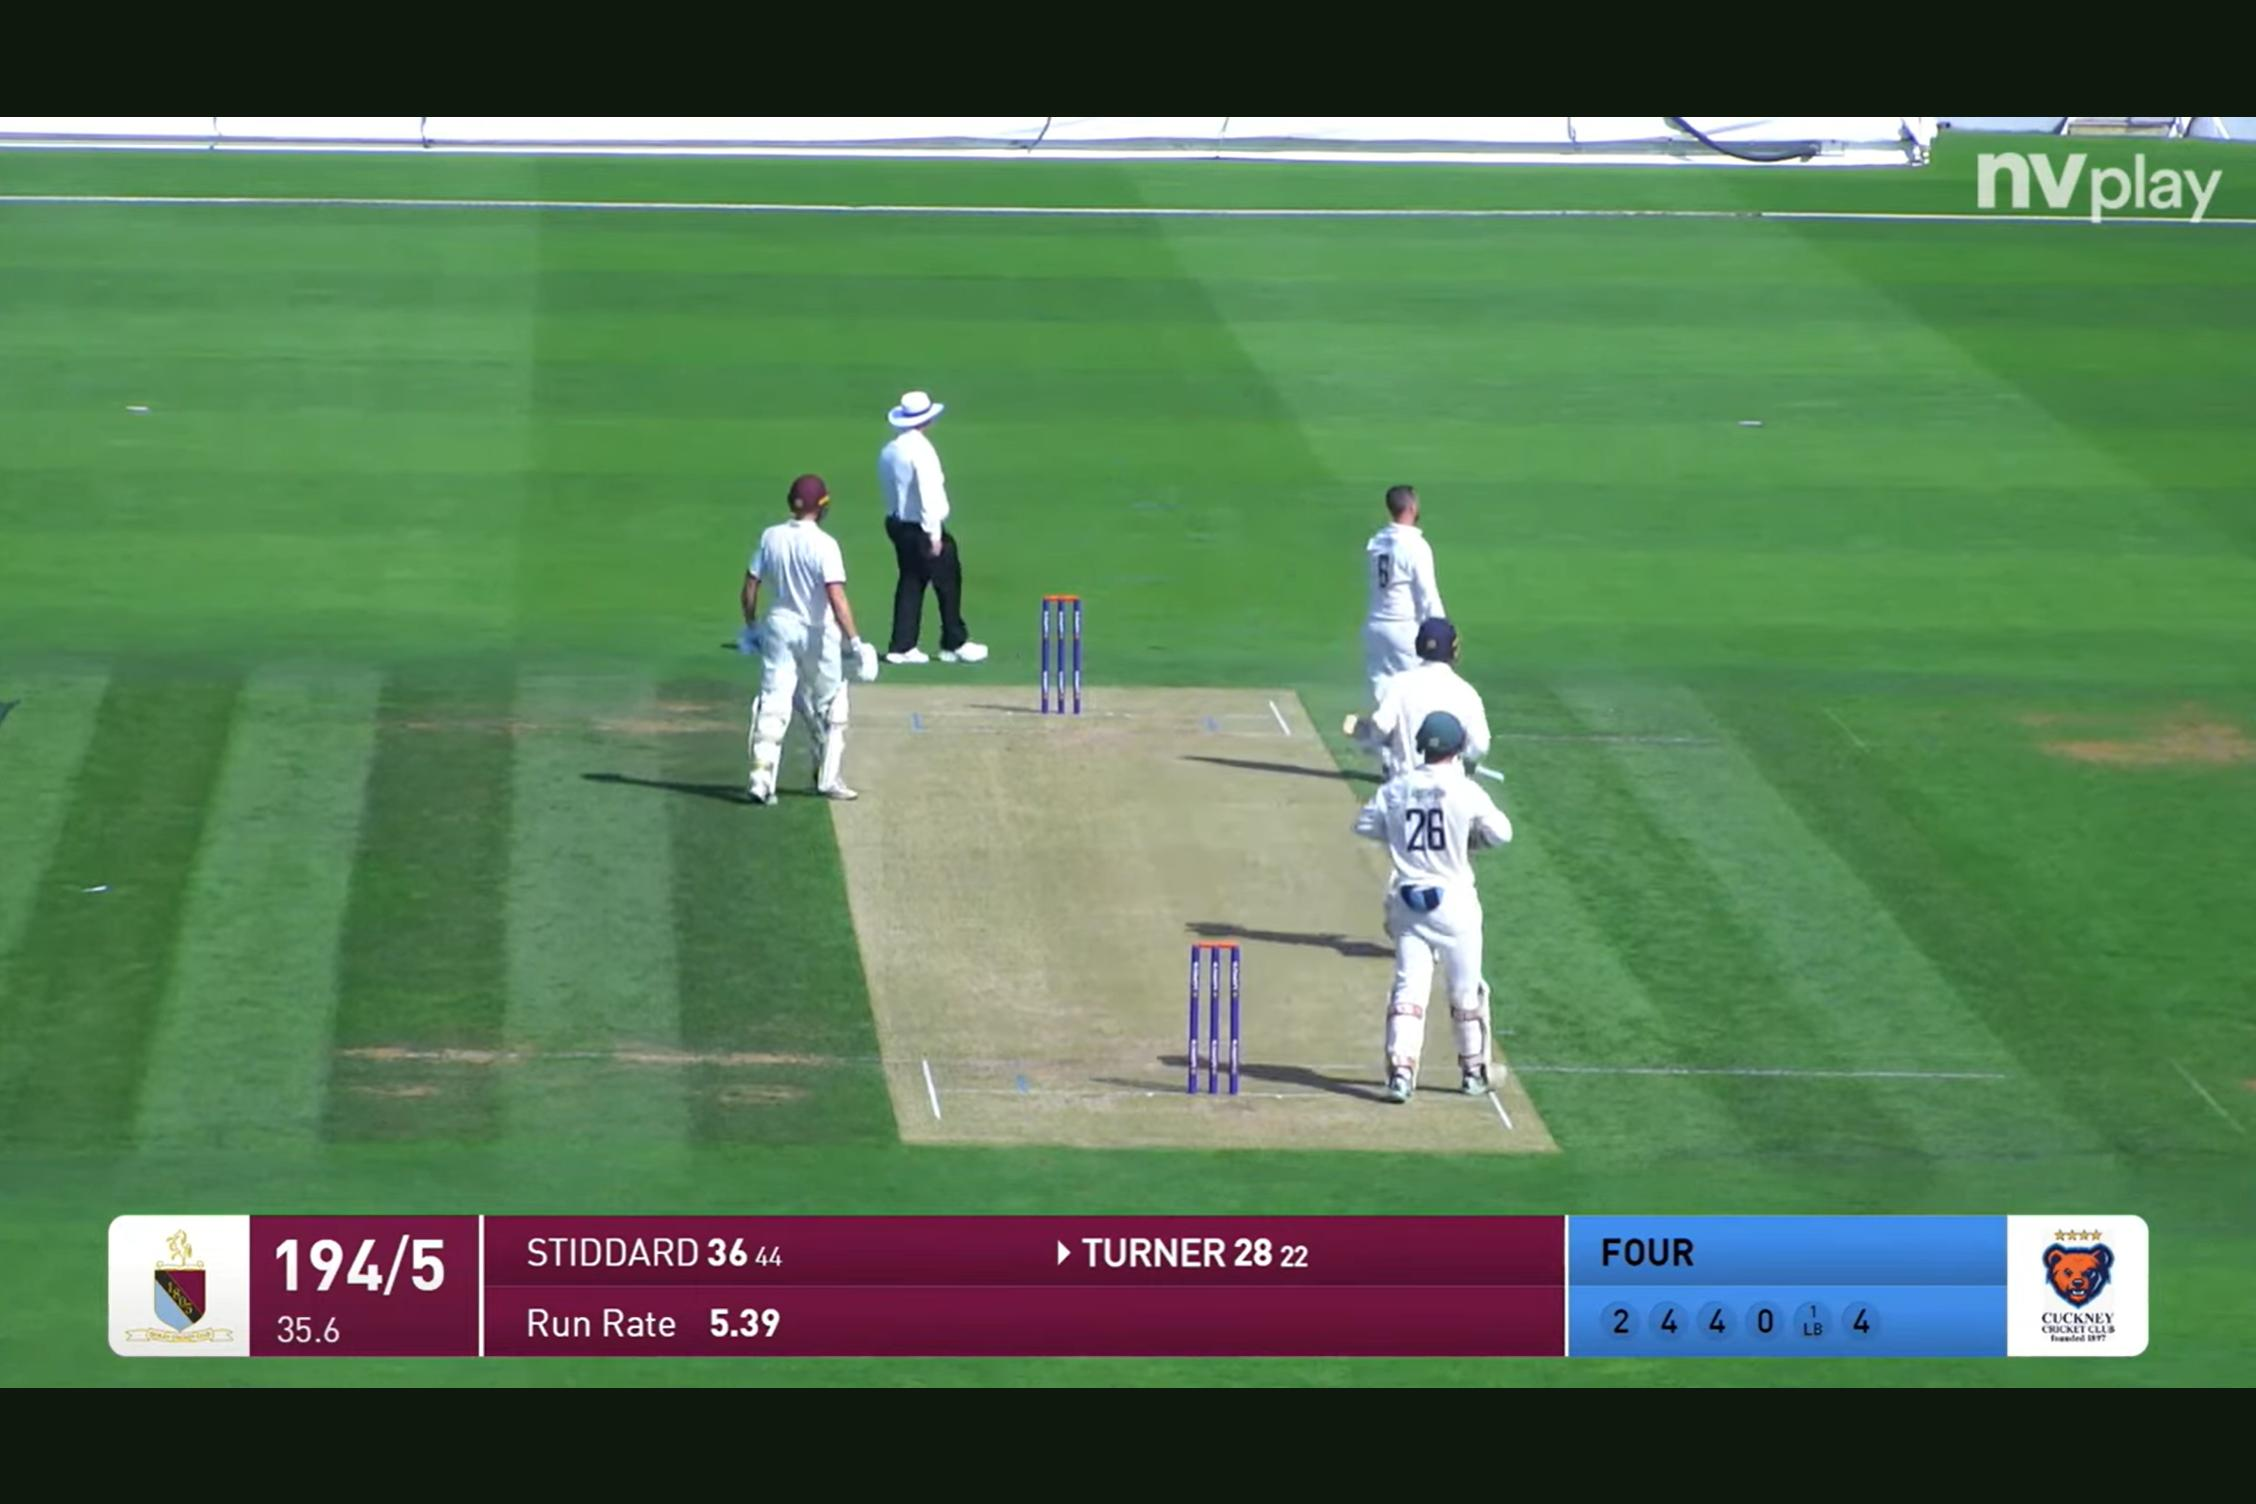bowler walking back: (1334, 468, 1486, 660)
non striker: (722, 453, 881, 834)
wicket keeper: (1324, 698, 1521, 1108)
